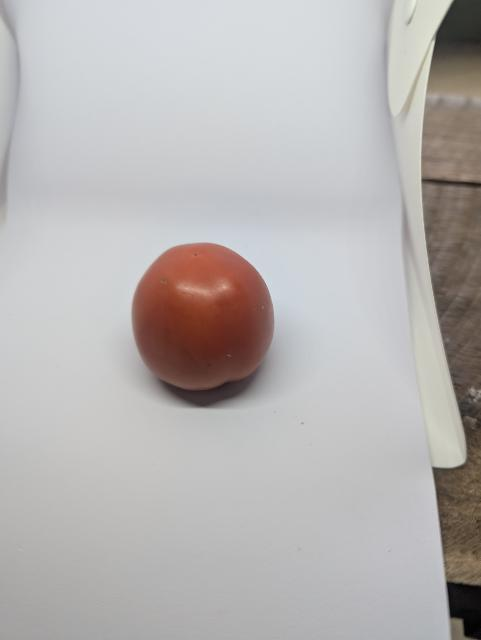red: (120, 235, 293, 413)
